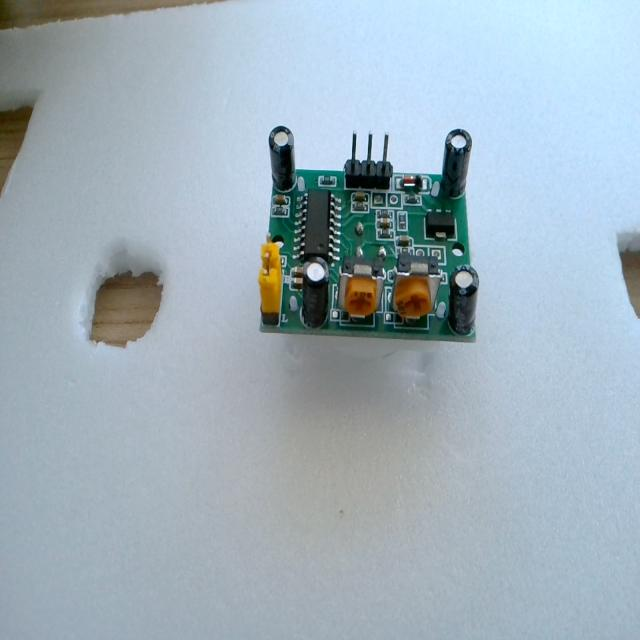Electrolytic capacitor: (440, 128, 473, 199), (449, 264, 480, 336), (301, 259, 330, 328), (268, 125, 296, 193)
IC: (294, 191, 338, 265)
